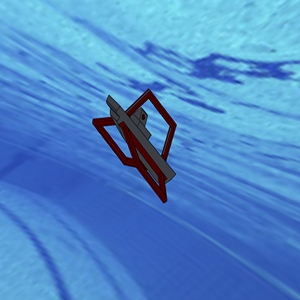submarine: (65, 72, 206, 232)
